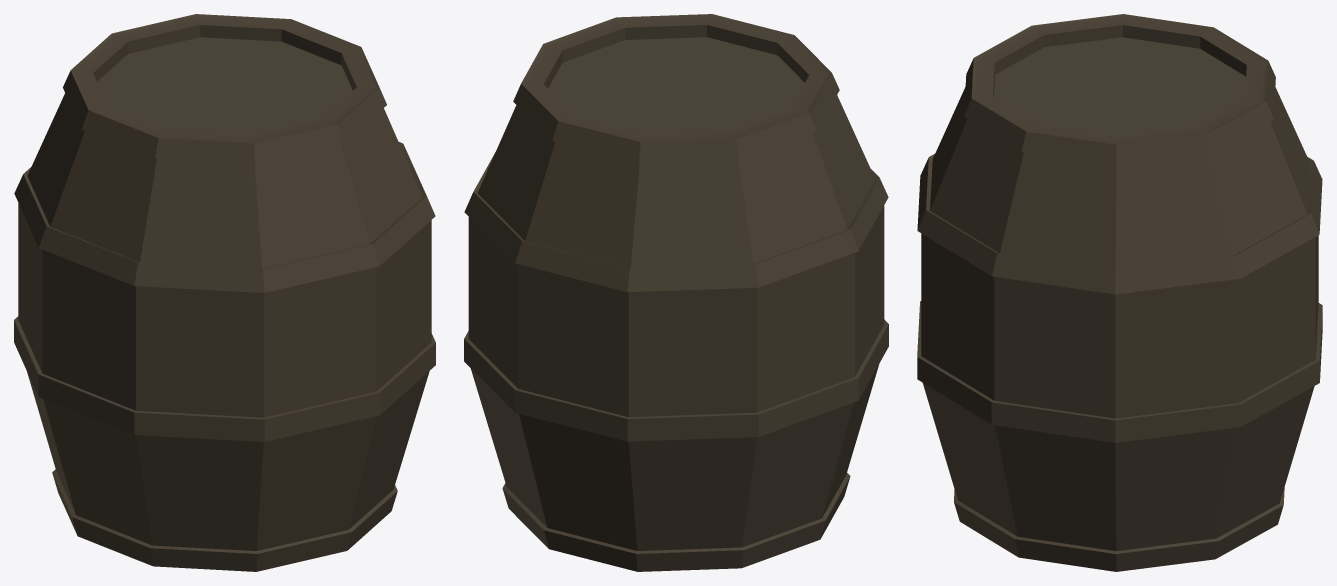
Rendered from barrel.fbx.
3 views of the same model, side by side, from view 1: azimuth 30°, elevation 25°; view 2: azimuth 150°, elevation 25°; view 3: azimuth 270°, elevation 25° (orthographic).
Visible parts, largest first — view 1: barrel; view 2: barrel; view 3: barrel.
Part boxes in pixels (<box>): barrel: <box>14,14,435,571</box>; barrel: <box>464,14,888,571</box>; barrel: <box>917,14,1322,571</box>.
Size of the model in its own units: 53 by 58.25 by 50.77.
